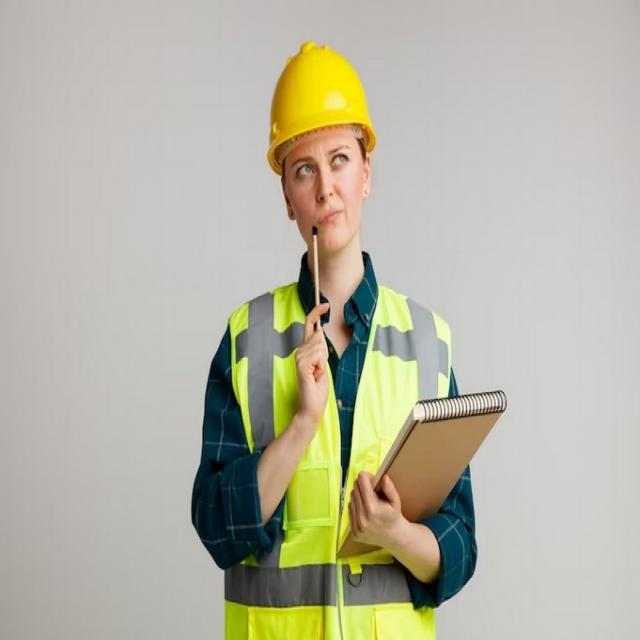helmet: (258, 33, 385, 178)
